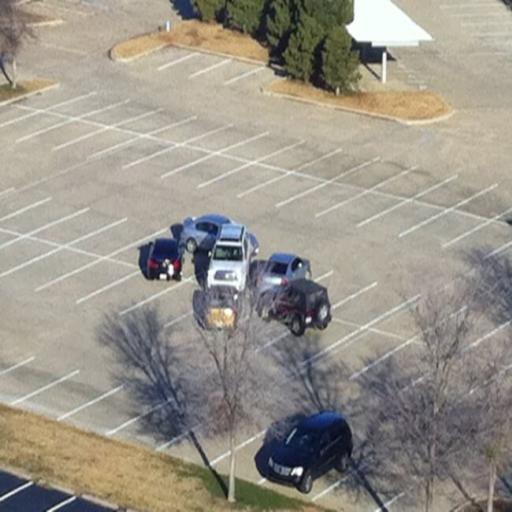Illegal-parking: (253, 286, 341, 340), (144, 228, 193, 302), (218, 213, 259, 296)
